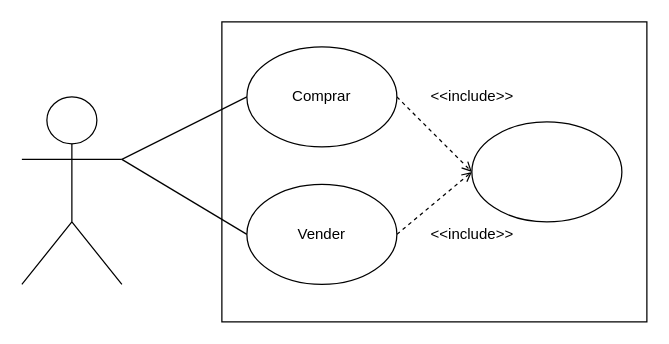
This 669x344 diagram has some shape labels left out. Each missing label, with the centre of its shape:
"IniciarSesión" belongs at point (546, 171).
"Usuario" belongs at point (71, 190).
